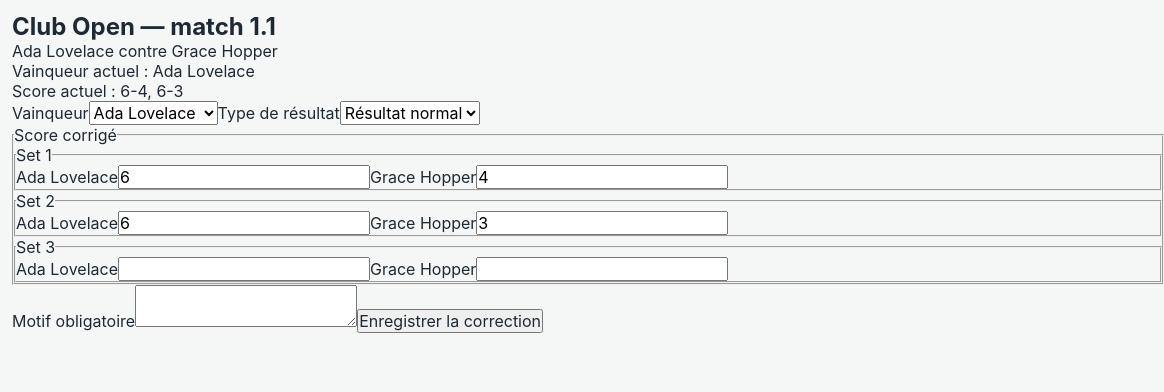
ResultCorrectionQueue › shows a rejected correction without refreshing the page
Type "Correction vérifiée." into the text box labelled "Motif obligatoire" at (246, 306), box [135,285,357,327]
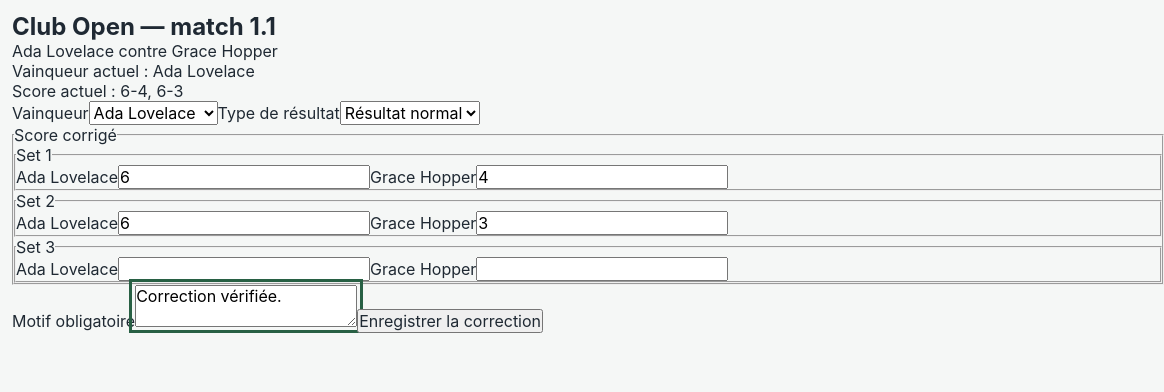
Type "7" into the number field named "Ada Lovelace, set 1" at (244, 177), box [118,165,370,189]
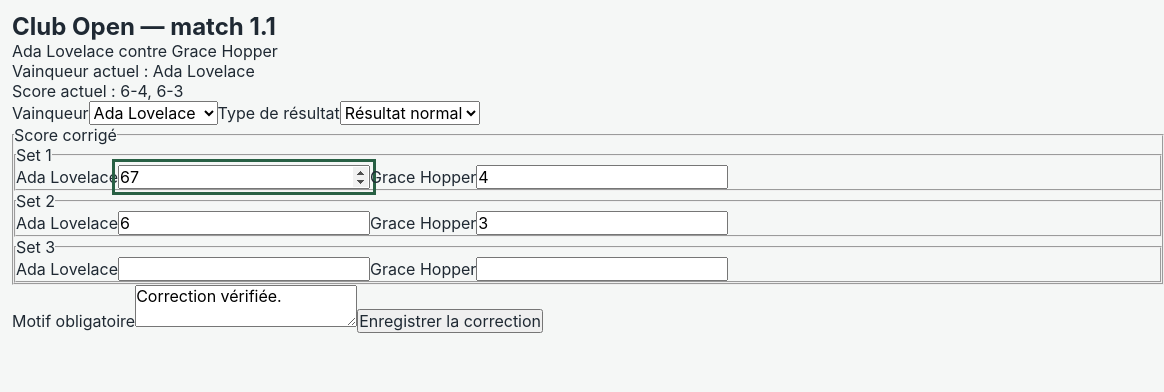
Click the button "Enregistrer la correction" at (450, 321), box [357,309,543,333]
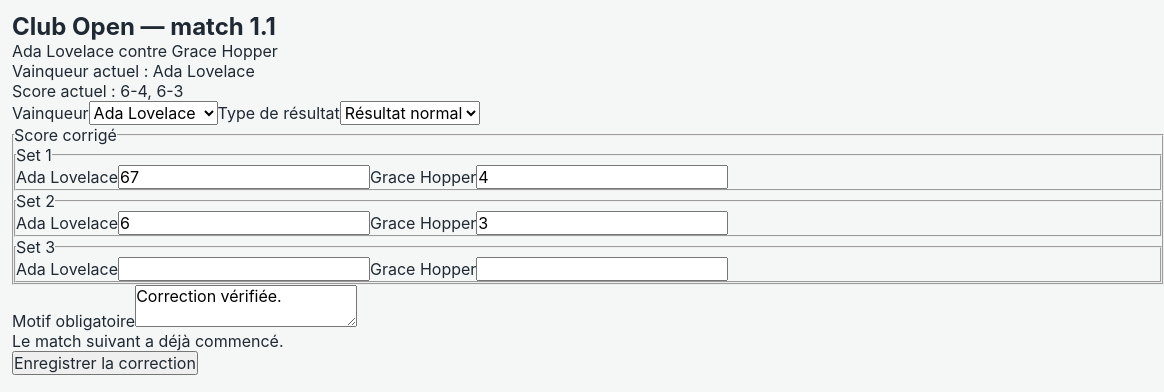
Expected: the message reads "Le match suivant a déjà commencé.", [12,331,284,351]
